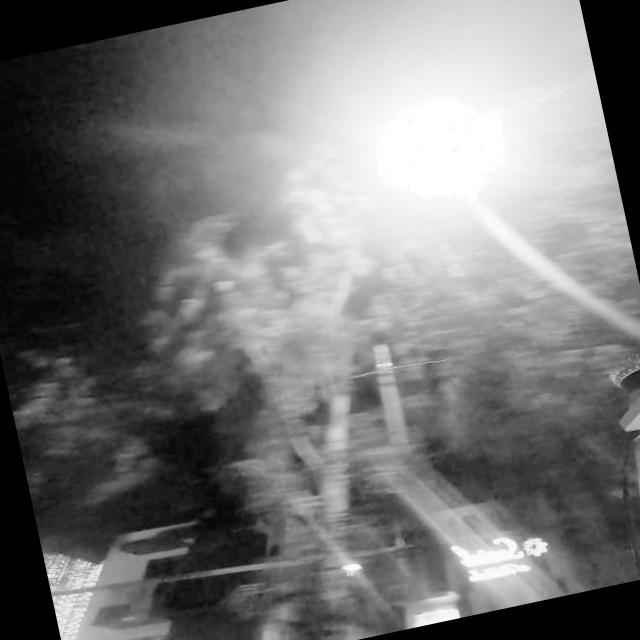Light: (350, 78, 532, 220)
